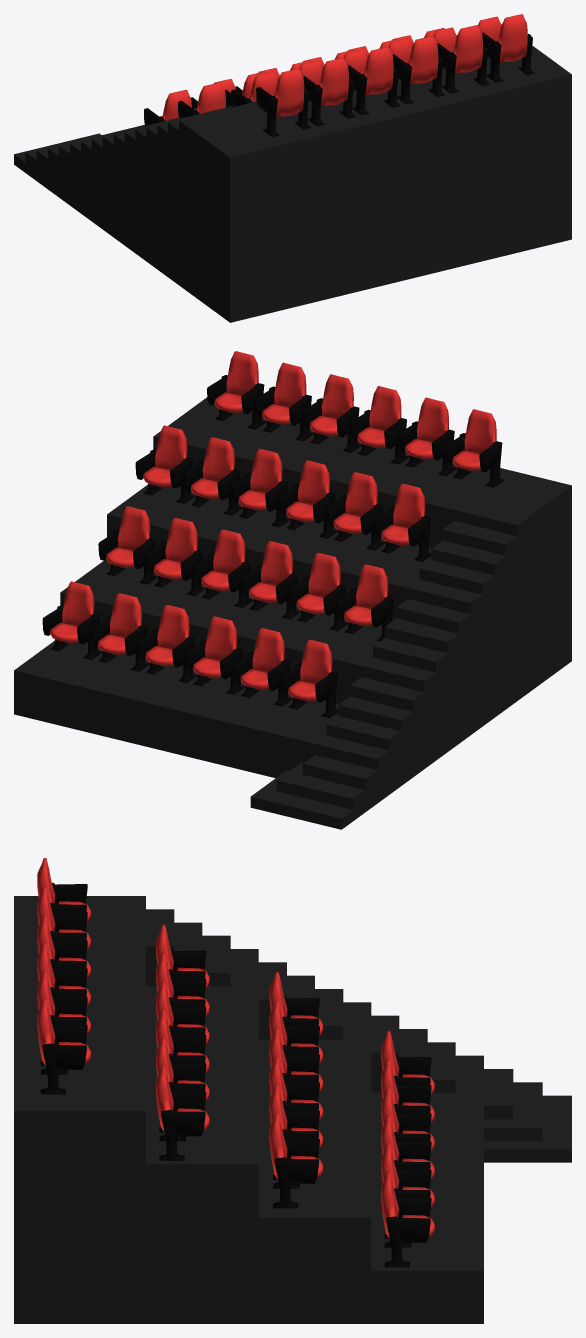
The model's file is escalonesSala.fbx.
3 views of the same model, one above another, from view 1: azimuth 30°, elevation 25°; view 2: azimuth 150°, elevation 25°; view 3: azimuth 270°, elevation 25° (orthographic). The views are drawn at different scales.
Parts seen in each view (by area): view 1: gradas, silla.005, silla.001, silla.003, silla.004, silla.002, silla, silla.017, silla.023, silla.011, silla.008, silla.009 (+3 smaller); view 2: gradas, silla.005, silla.011, silla.023, silla.004, silla.002, silla.015, silla.019, silla.001, silla.009, silla.013, silla.007 (+13 smaller); view 3: gradas, silla.018, silla.006, silla, silla.012, silla.007, silla.001, silla.019, silla.013, silla.003, silla.016, silla.002 (+13 smaller).
Part boxes in pixels (bbox=[...]): gradas: bbox=[14, 45, 571, 322]; silla.005: bbox=[256, 68, 310, 137]; silla.001: bbox=[437, 25, 489, 93]; silla.003: bbox=[347, 47, 400, 115]; silla.004: bbox=[303, 57, 355, 126]; silla.002: bbox=[392, 36, 444, 104]; silla: bbox=[482, 14, 534, 82]; silla.017: bbox=[178, 82, 230, 118]; silla.023: bbox=[144, 89, 191, 125]; silla.011: bbox=[231, 71, 277, 107]; silla.008: bbox=[367, 38, 411, 62]; silla.009: bbox=[344, 49, 367, 73]; gradas: bbox=[14, 397, 571, 829]; silla.005: bbox=[445, 409, 504, 487]; silla.011: bbox=[373, 483, 431, 562]; silla.023: bbox=[280, 639, 338, 717]; silla.004: bbox=[397, 397, 456, 476]; silla.002: bbox=[302, 374, 361, 452]; silla.015: bbox=[241, 541, 300, 619]; silla.019: bbox=[90, 593, 149, 671]; silla.001: bbox=[254, 362, 314, 441]; silla.009: bbox=[278, 460, 337, 538]; silla.013: bbox=[146, 517, 205, 596]; silla.007: bbox=[183, 437, 242, 515]; gradas: bbox=[14, 896, 571, 1323]; silla.018: bbox=[381, 1171, 434, 1267]; silla.006: bbox=[155, 1065, 209, 1160]; silla: bbox=[37, 998, 90, 1094]; silla.012: bbox=[269, 1112, 322, 1208]; silla.007: bbox=[155, 1037, 209, 1132]; silla.001: bbox=[37, 970, 90, 1066]; silla.019: bbox=[381, 1143, 434, 1238]; silla.013: bbox=[269, 1084, 322, 1179]; silla.003: bbox=[37, 914, 90, 978]; silla.016: bbox=[269, 1000, 322, 1063]; silla.002: bbox=[37, 942, 90, 1006].
Size of the model in its own units: 2600 by 1641 by 2850.
